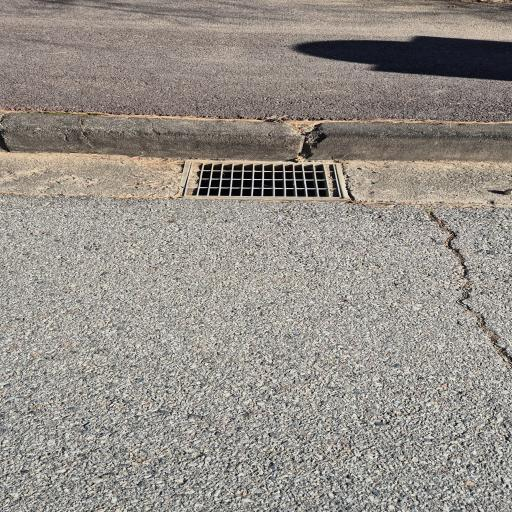drain: (177, 160, 350, 201)
